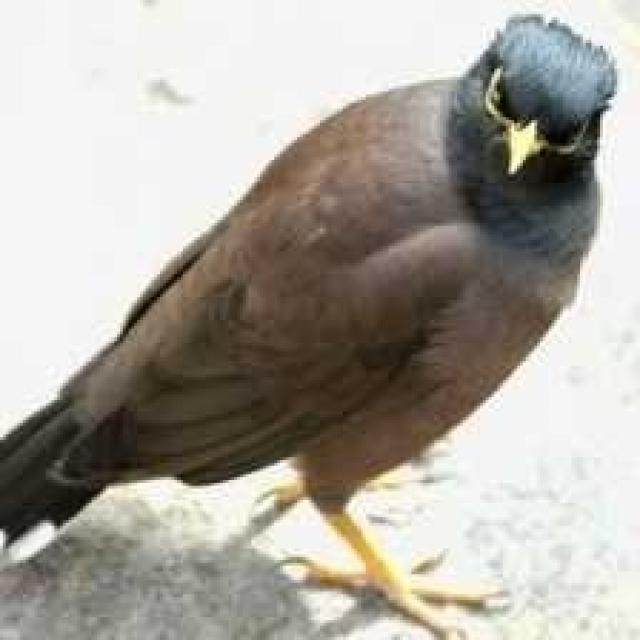bird: (1, 14, 635, 640)
